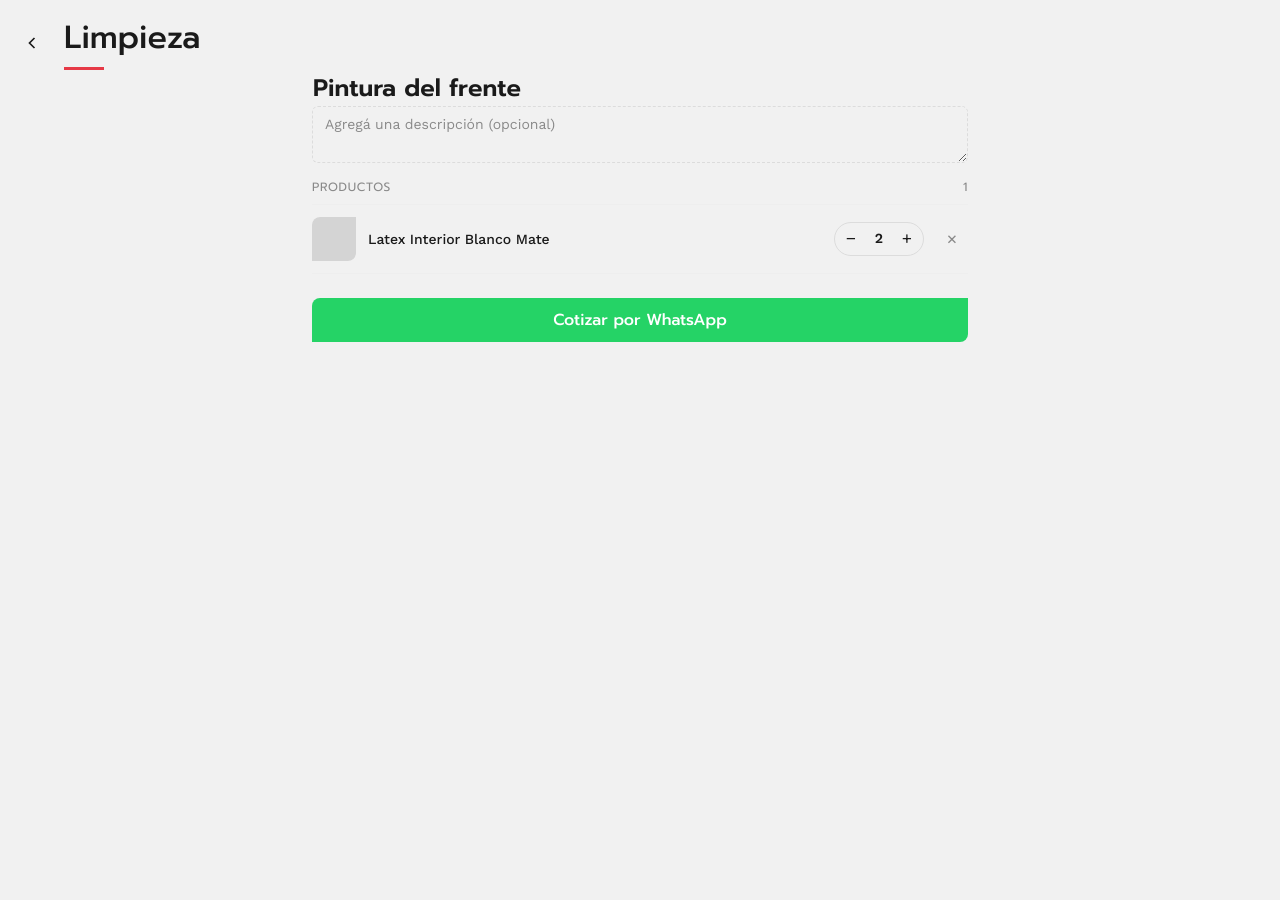
Test: DetalleQuodom: los proveedores de un Quodom enviado › enviar desde el detalle gasta una sola búsqueda
Check: the text "Latex Interior Blanco Mate" is shown, box [368,230,550,248]
Step 1. Click the button "Cotizar por WhatsApp" → {"x": 640, "y": 320}, box [312,298,968,342]
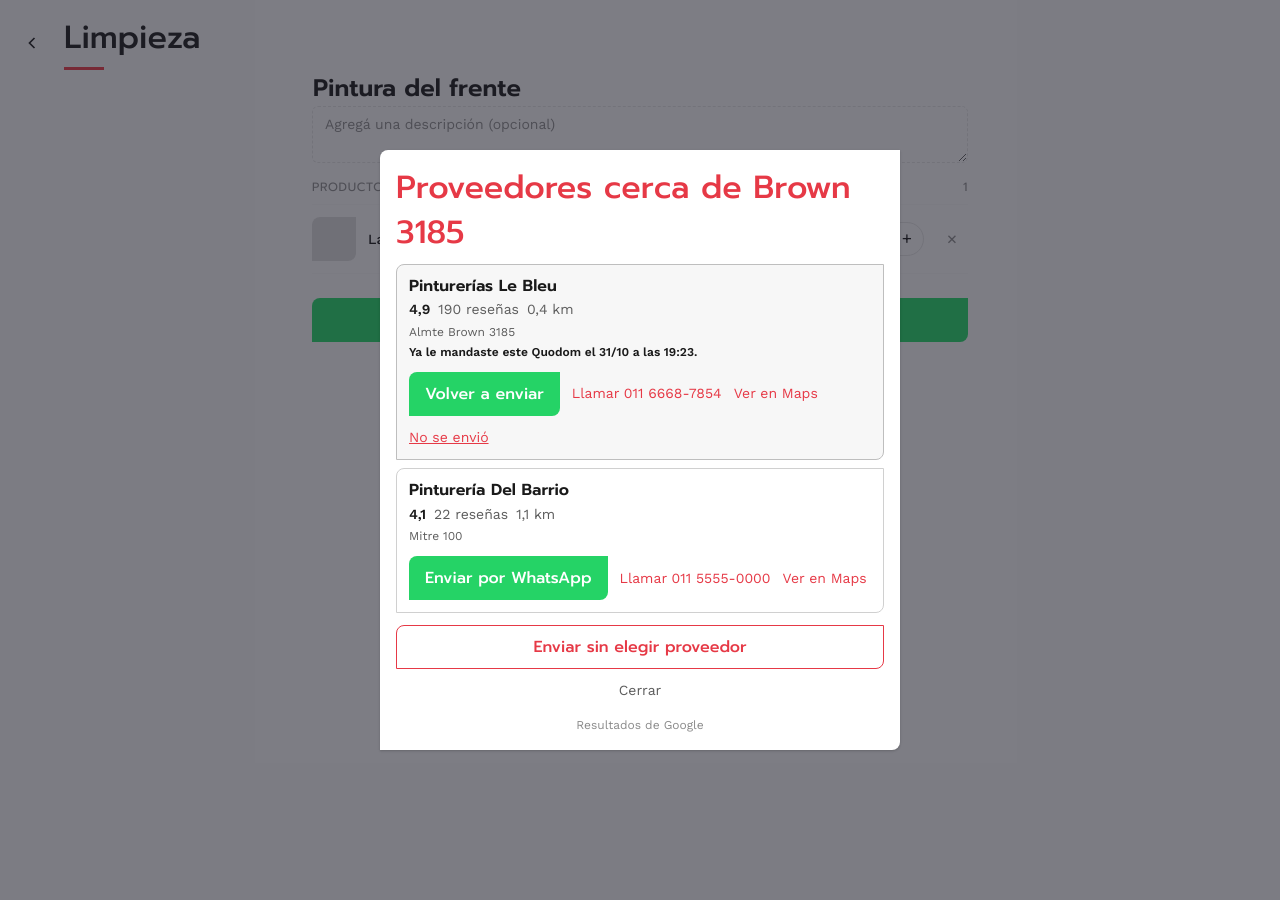
Step 2. Click the button "Enviar por WhatsApp" → {"x": 508, "y": 578}, box [409,556,608,600]
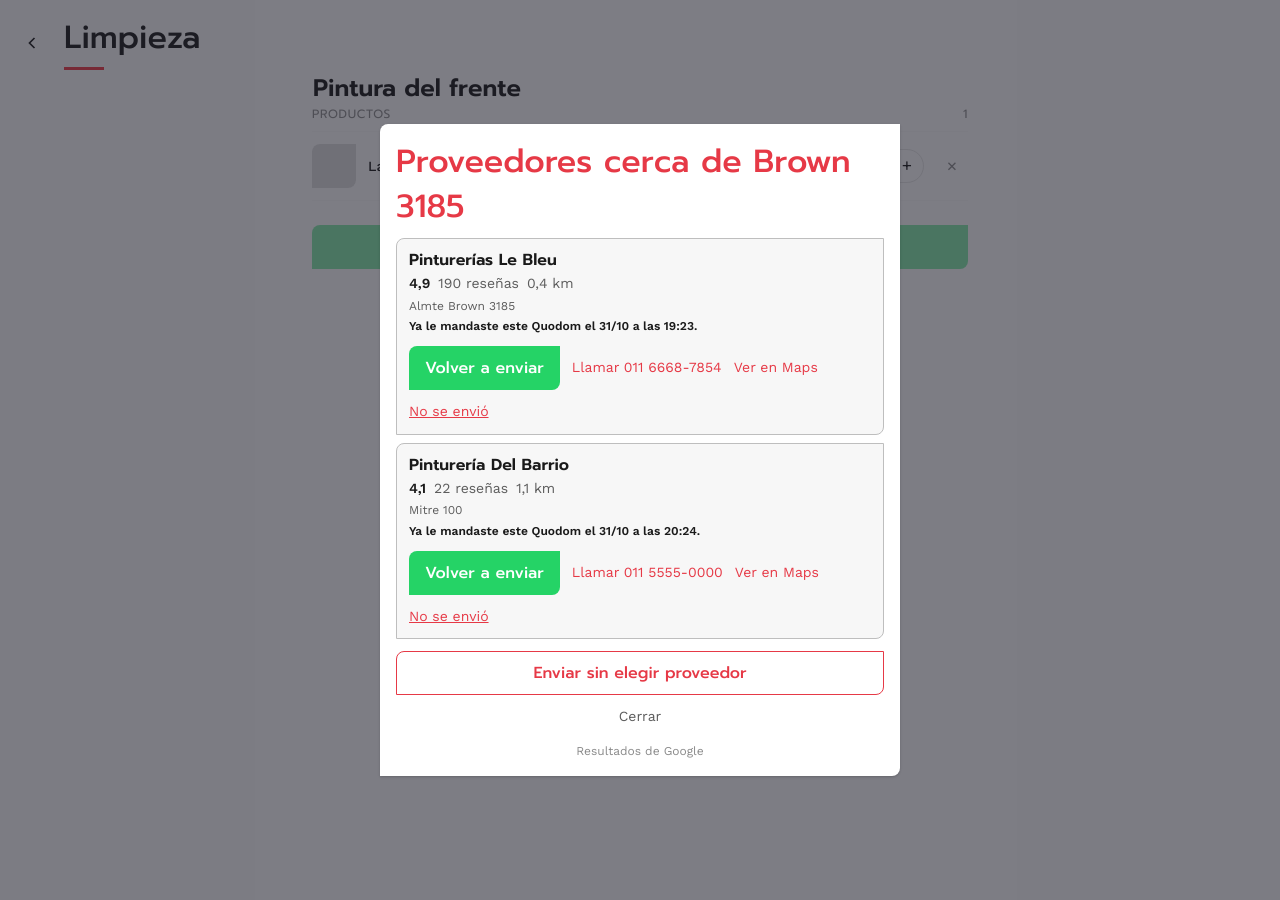
Check: the heading "Proveedores cerca de Brown 3185" is shown, box [396,140,884,230]
Check: the text "Ya le mandaste este Quodom el 31/10 a las 19:23." is shown 2 times, box [409,319,697,333]; [409,524,700,538]
Step 3. Click the button "Cerrar" → {"x": 640, "y": 717}, box [615,703,665,731]
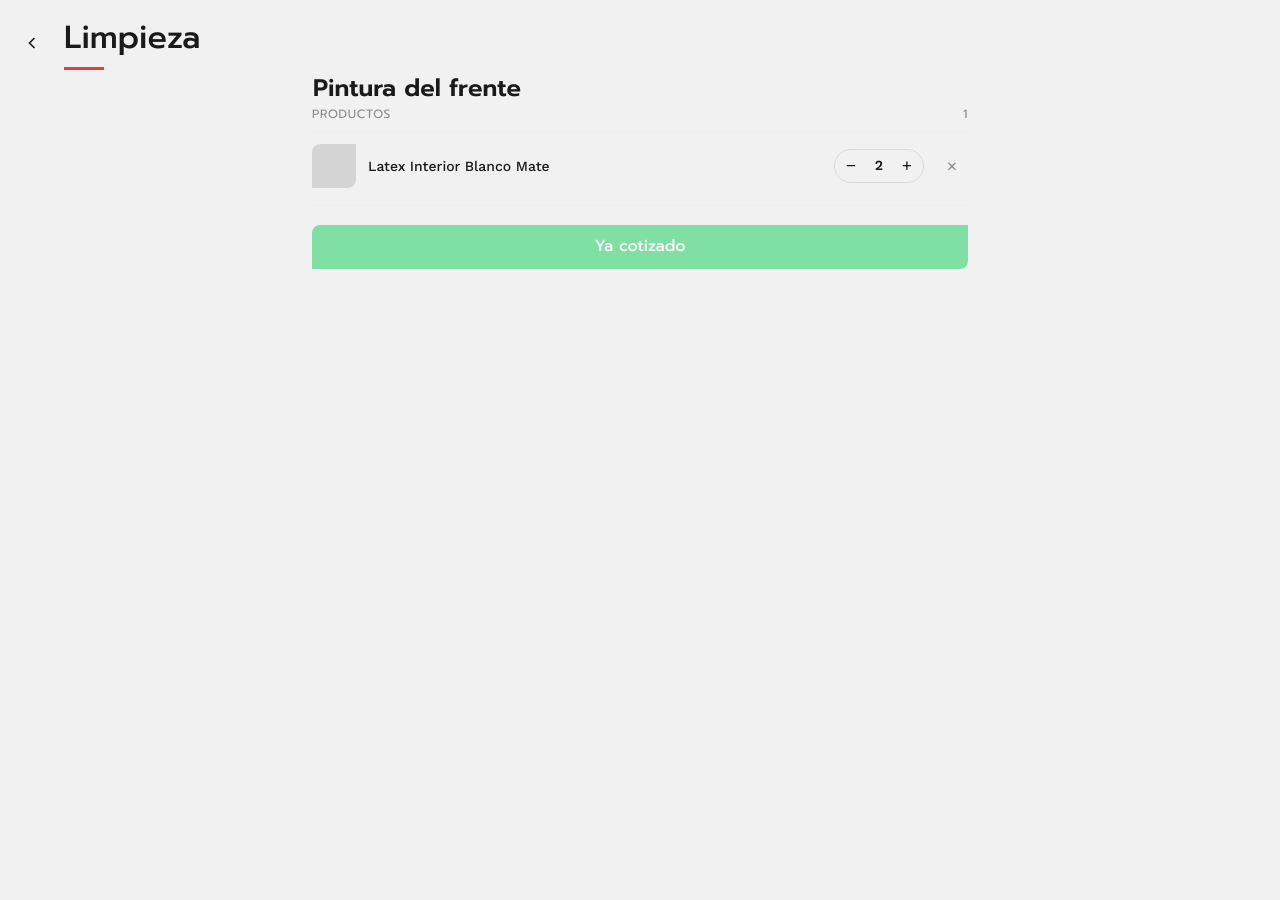
Check: the dialog is gone
